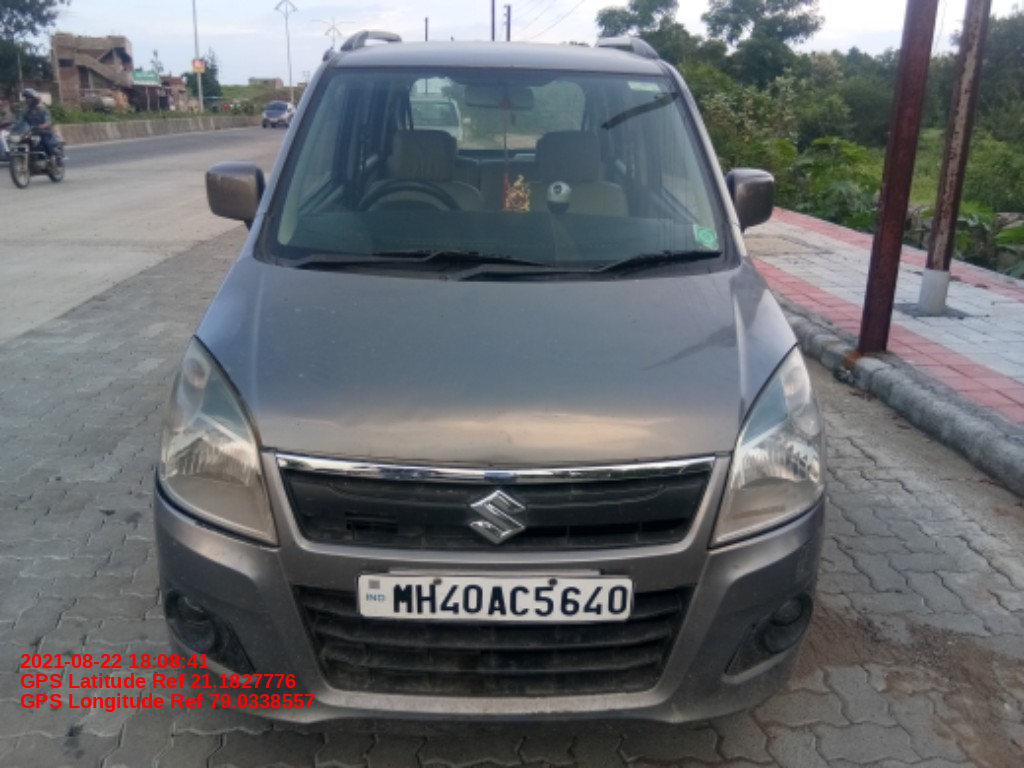Scratched: (514, 705, 640, 719)
